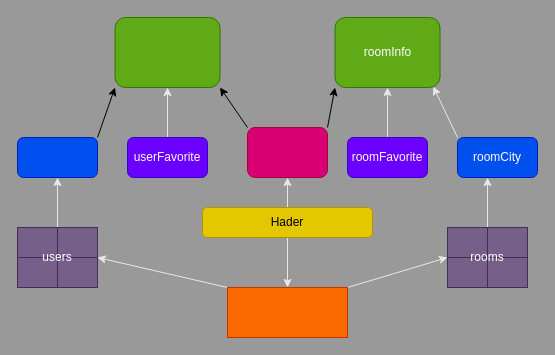
This 555x355 diagram has some shape labels left out. The shapes that lost their labels are listed below. From the top down, each one's centre as x and y in pixels, then its label:
the point at 167,52: userInfo
the point at 57,157: userCity
the point at 287,152: cabinet
the point at 287,312: main page
